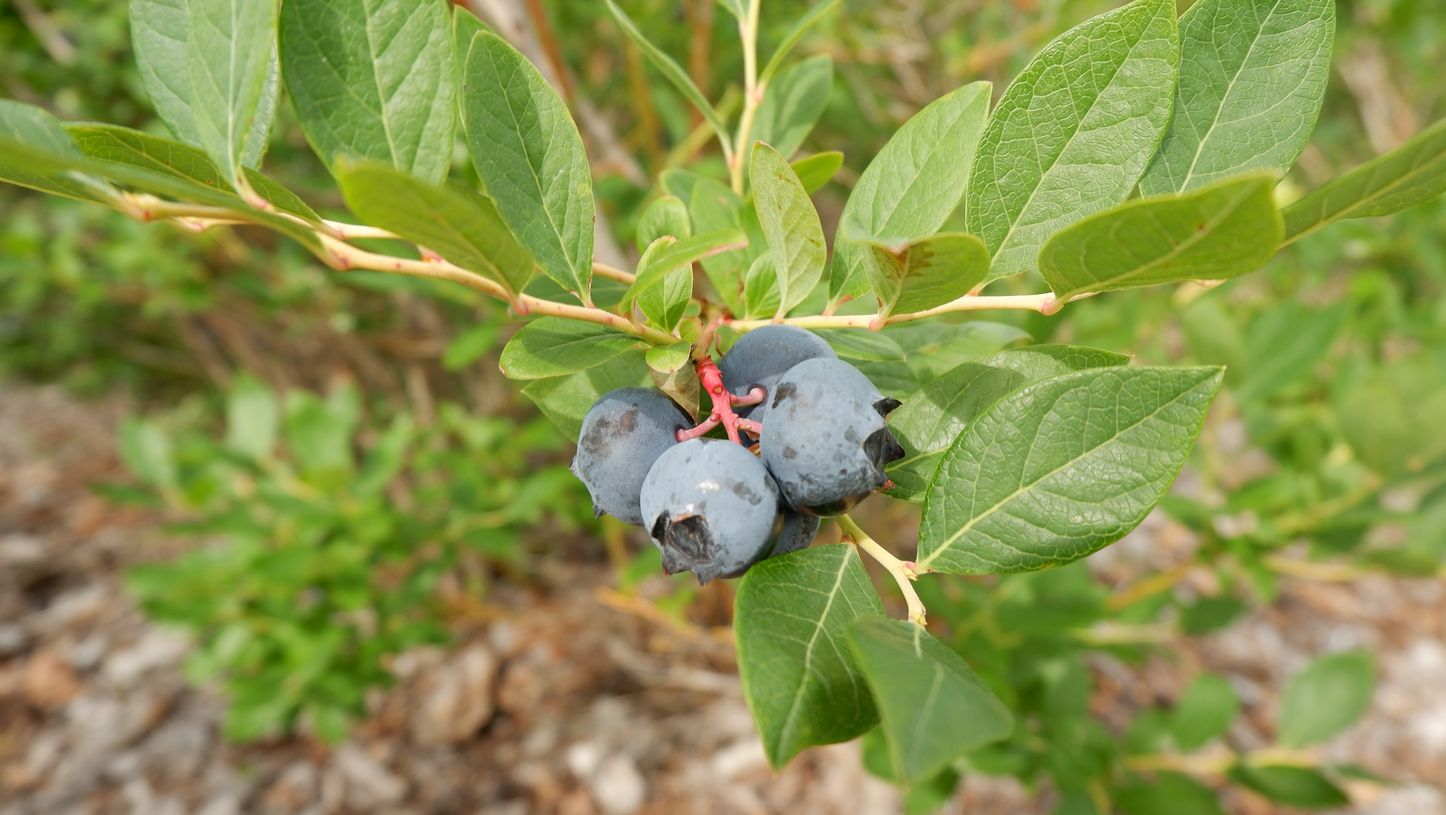Mature: (761, 357, 906, 516), (639, 438, 784, 589), (569, 388, 698, 526), (715, 325, 839, 445), (771, 490, 822, 558)
